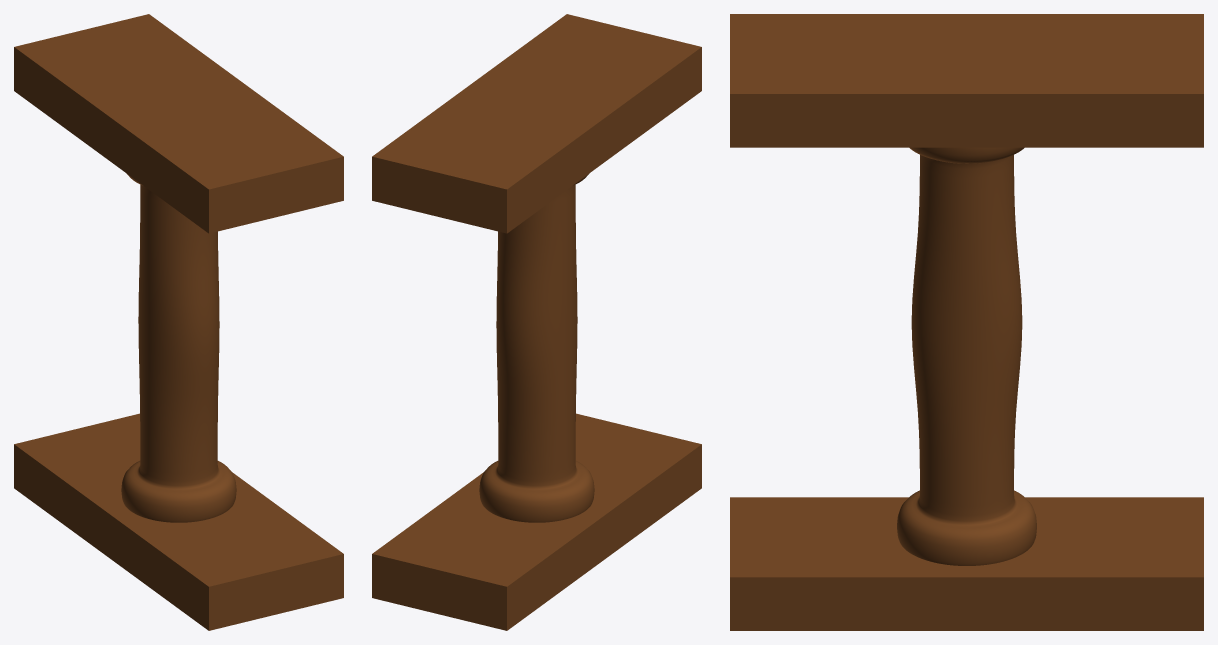
The picture shows the model from 3 angles, left to right: view 1: azimuth 30°, elevation 25°; view 2: azimuth 150°, elevation 25°; view 3: azimuth 270°, elevation 25°; orthographic projection. The views are drawn at different scales.
Parts seen in each view (by area): view 1: Cube.001, Cube, Cylinder; view 2: Cube.001, Cube, Cylinder; view 3: Cube.001, Cube, Cylinder.
Part boxes in pixels (x1,y1,x2,y2): Cube.001: (14, 14, 343, 233); Cube: (14, 413, 343, 630); Cylinder: (121, 173, 236, 522); Cube.001: (372, 14, 701, 233); Cube: (372, 413, 701, 630); Cylinder: (479, 173, 594, 522); Cube.001: (730, 14, 1203, 147); Cube: (730, 497, 1203, 630); Cylinder: (897, 147, 1036, 565).
Bounding box in the file's own units: 80 × 250 × 200.
